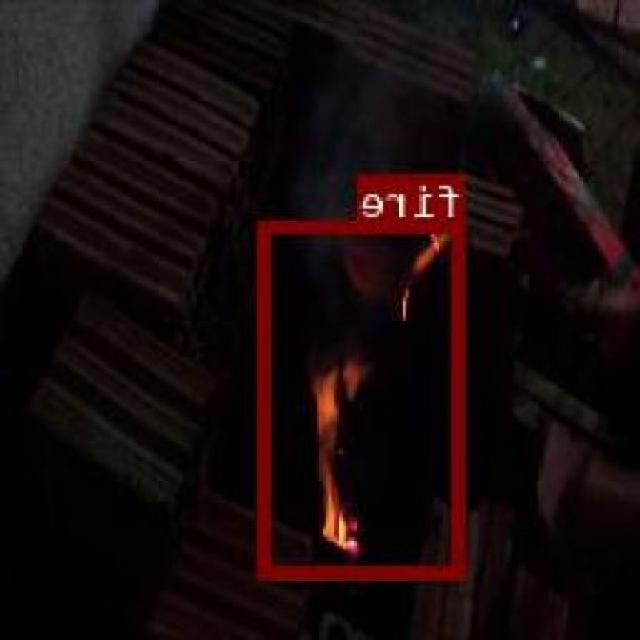fire: (262, 217, 468, 576)
